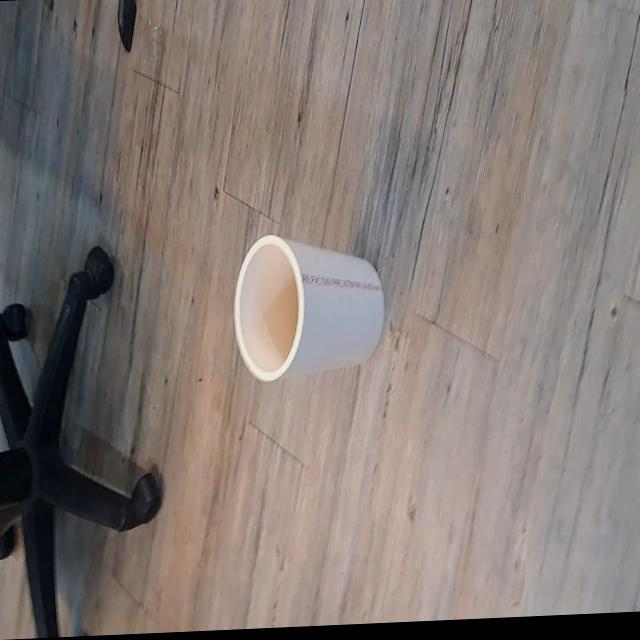CORAL: (225, 219, 393, 398)
